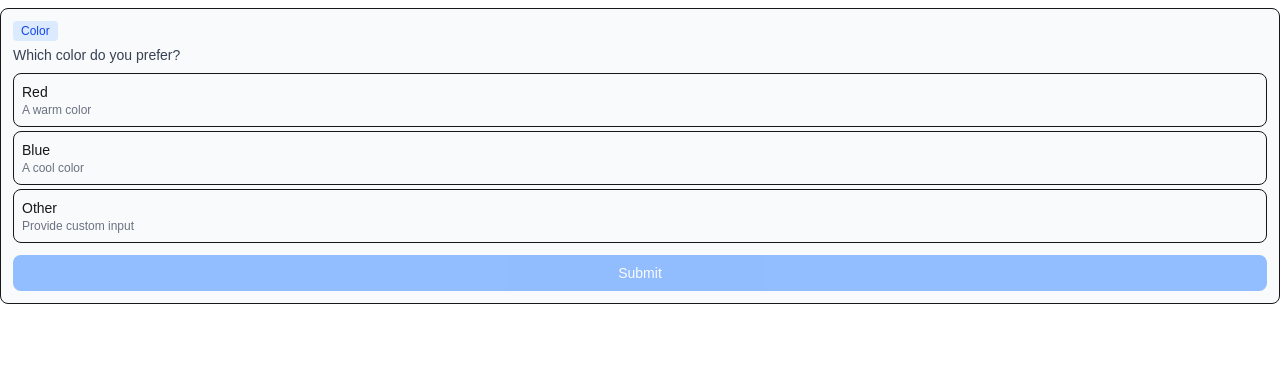
AskUserQuestionUI › other option › reveals input when selected
This screenshot has width=1280, height=367.
Expected: the field with placeholder "Enter your response..." is not shown
Click Other
Click the button "Other Provide custom input": coordinates (40, 208) [13, 189, 1267, 243]
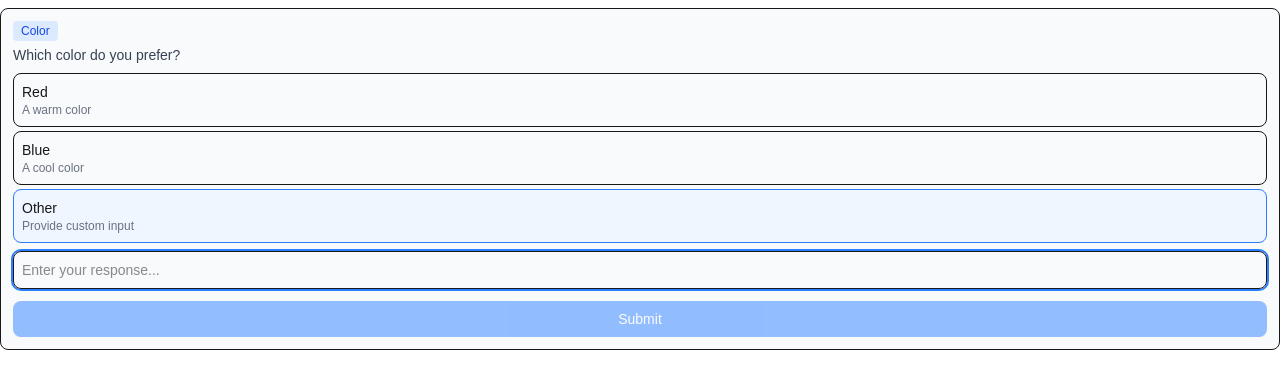
Expected: the field with placeholder "Enter your response..." is shown, [13, 251, 1267, 289]
